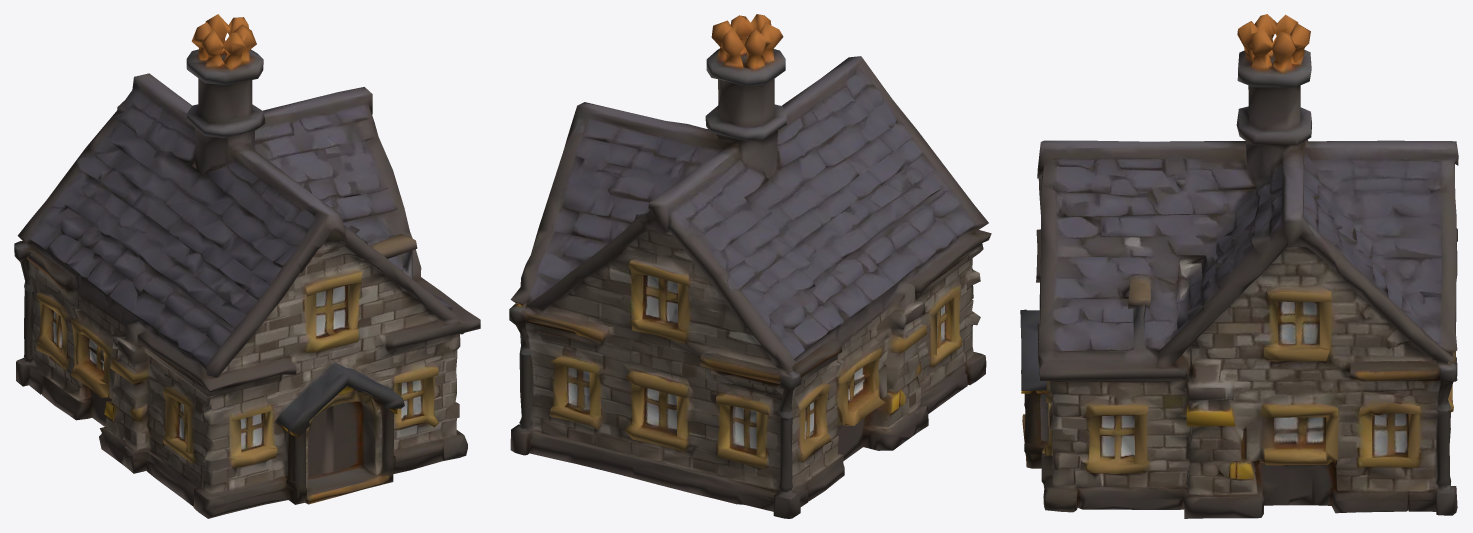
Rendered from distillery.glb.
The picture shows the model from 3 angles, left to right: view 1: azimuth 30°, elevation 25°; view 2: azimuth 150°, elevation 25°; view 3: azimuth 270°, elevation 25°; orthographic projection. The views are drawn at different scales.
Visible parts, largest first — view 1: tripo_node_25fb61de-2e37-47c1-a591-07ff6c47c1a4; view 2: tripo_node_25fb61de-2e37-47c1-a591-07ff6c47c1a4; view 3: tripo_node_25fb61de-2e37-47c1-a591-07ff6c47c1a4.
Boxes of the visible parts, x1=… form: tripo_node_25fb61de-2e37-47c1-a591-07ff6c47c1a4: x1=14, y1=14, x2=480, y2=518; tripo_node_25fb61de-2e37-47c1-a591-07ff6c47c1a4: x1=509, y1=14, x2=991, y2=518; tripo_node_25fb61de-2e37-47c1-a591-07ff6c47c1a4: x1=1020, y1=14, x2=1458, y2=518.
Size of the model in its own units: 0.7754 by 1 by 0.9491.
1 material, 1 textured.
